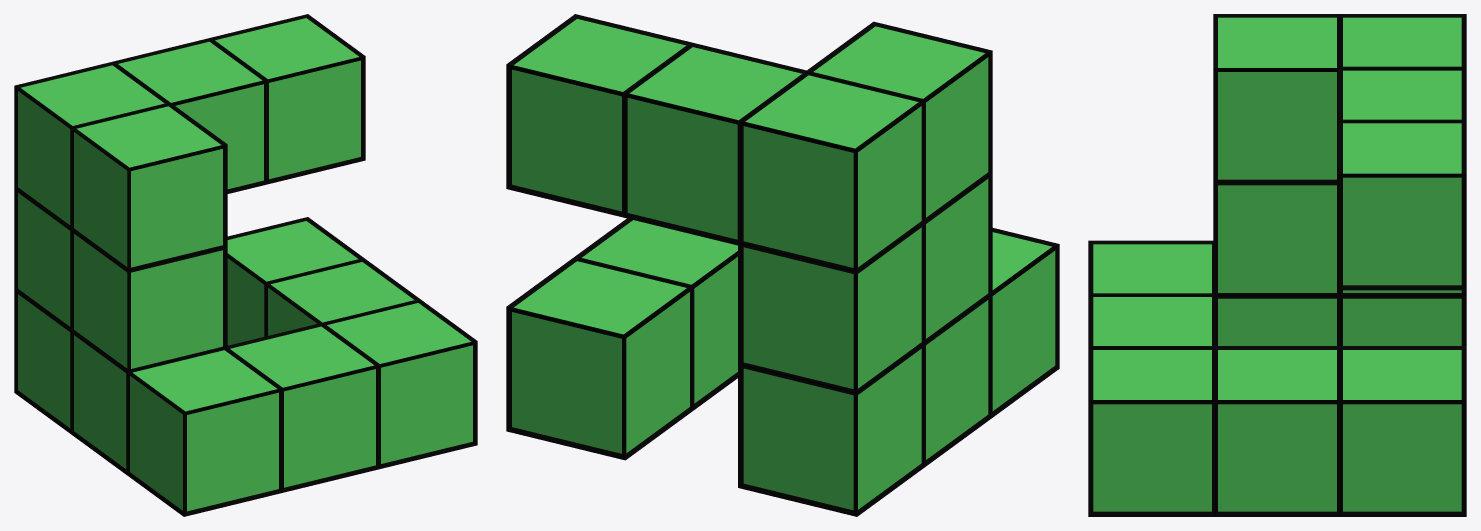
Rendered from Angabe - 3.fbx.
3 renders of one model, left to right at view 1: azimuth 30°, elevation 25°; view 2: azimuth 150°, elevation 25°; view 3: azimuth 270°, elevation 25°, orthographic. The views are drawn at different scales.
Visible parts, largest first — view 1: Angabe2:Mesh; view 2: Angabe2:Mesh; view 3: Angabe2:Mesh.
Boxes of the visible parts, x1,y1,x2,y2 form: Angabe2:Mesh: [14, 14, 477, 516]; Angabe2:Mesh: [506, 14, 1059, 516]; Angabe2:Mesh: [1088, 14, 1466, 516].
Size of the model in its own units: 6.06 by 6.06 by 6.06.
